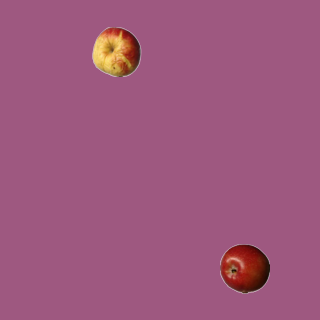Apple Braeburn: (219, 243, 269, 293)
Apple Red Yellow 1: (91, 26, 141, 76)
